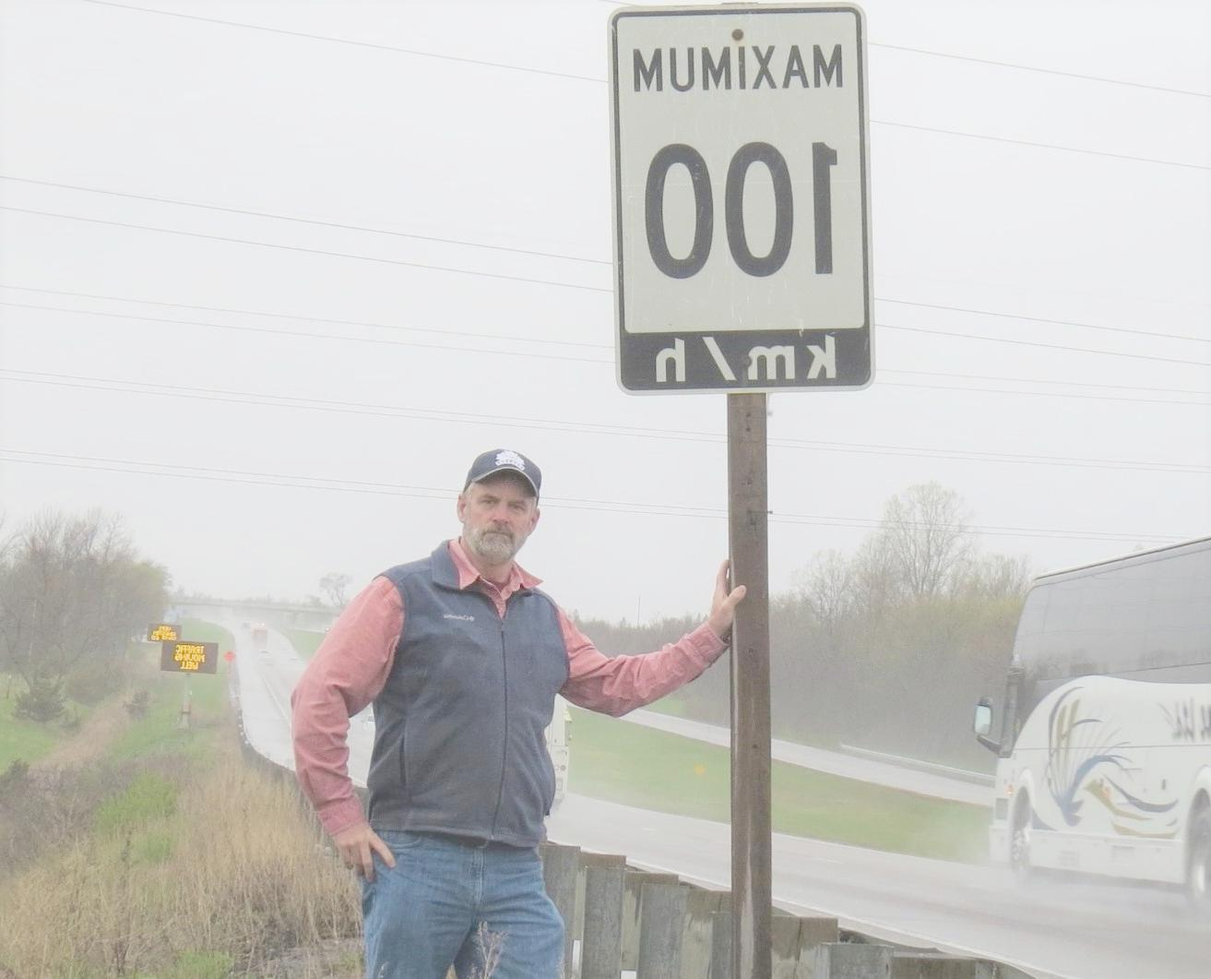speed limit sign: (612, 1, 866, 399)
